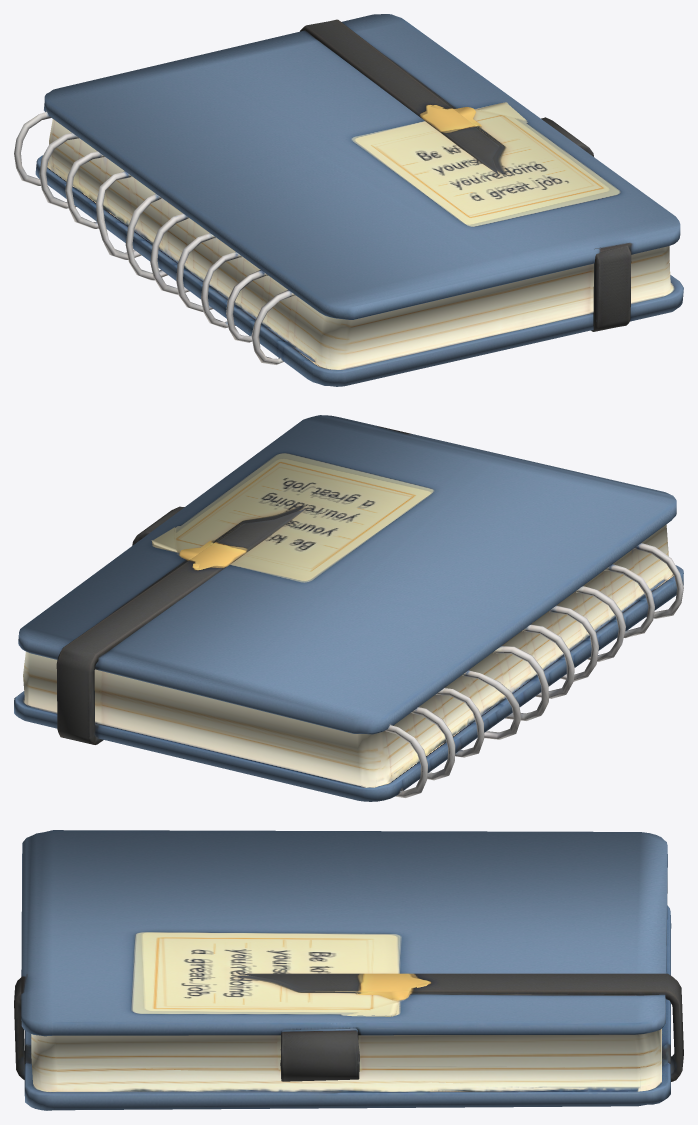
Rendered from small_book.glb.
3 views of the same model, one above another, from view 1: azimuth 30°, elevation 25°; view 2: azimuth 150°, elevation 25°; view 3: azimuth 270°, elevation 25° (orthographic). The views are drawn at different scales.
Parts seen in each view (by area): view 1: tripo_node_f1e3cdf8-4910-4eba-9fad-31dd8d86d07e; view 2: tripo_node_f1e3cdf8-4910-4eba-9fad-31dd8d86d07e; view 3: tripo_node_f1e3cdf8-4910-4eba-9fad-31dd8d86d07e.
Boxes of the visible parts, x1=… form: tripo_node_f1e3cdf8-4910-4eba-9fad-31dd8d86d07e: x1=14, y1=14, x2=683, y2=386; tripo_node_f1e3cdf8-4910-4eba-9fad-31dd8d86d07e: x1=14, y1=415, x2=683, y2=801; tripo_node_f1e3cdf8-4910-4eba-9fad-31dd8d86d07e: x1=14, y1=830, x2=683, y2=1110.
Bounding box in the file's own units: 0.1516 × 0.0311 × 0.1936.
Materials: 1 (1 with a texture image).
